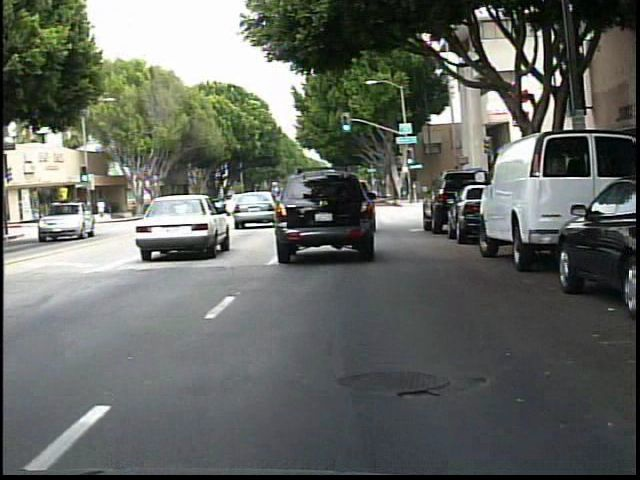person: (97, 196, 109, 221)
